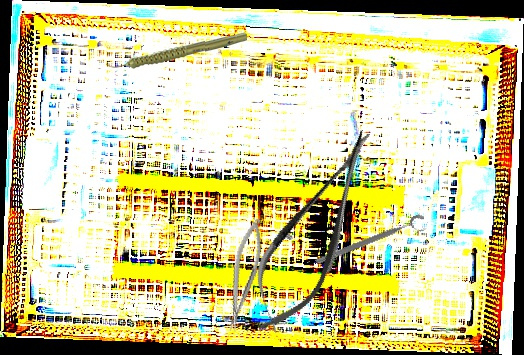Fixation Ring: (313, 212, 430, 274)
Handpiece: (105, 28, 248, 73)
Micro Scissor: (230, 116, 400, 346)
Needle Holder: (217, 216, 270, 334)
